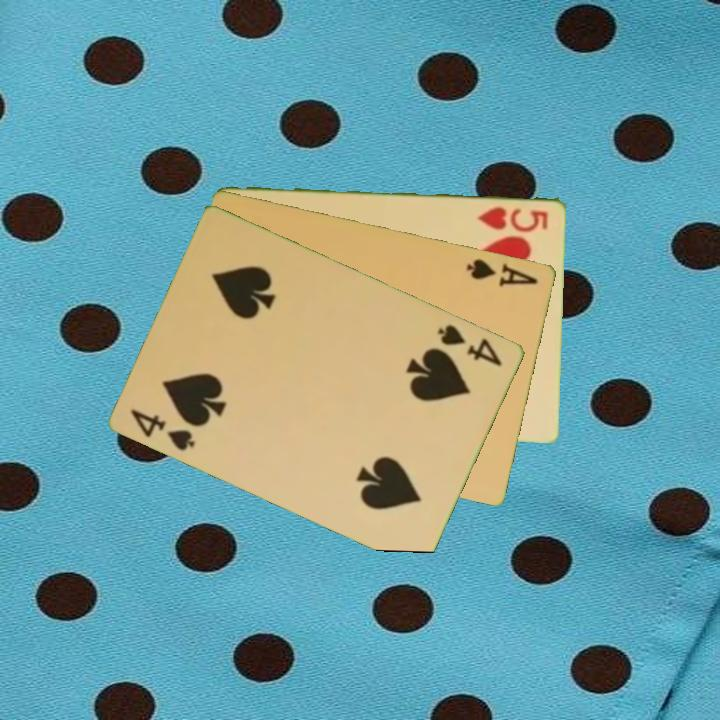4s: (434, 320, 506, 369), (128, 405, 199, 454)
5h: (475, 202, 551, 233)
As: (463, 254, 541, 289)
